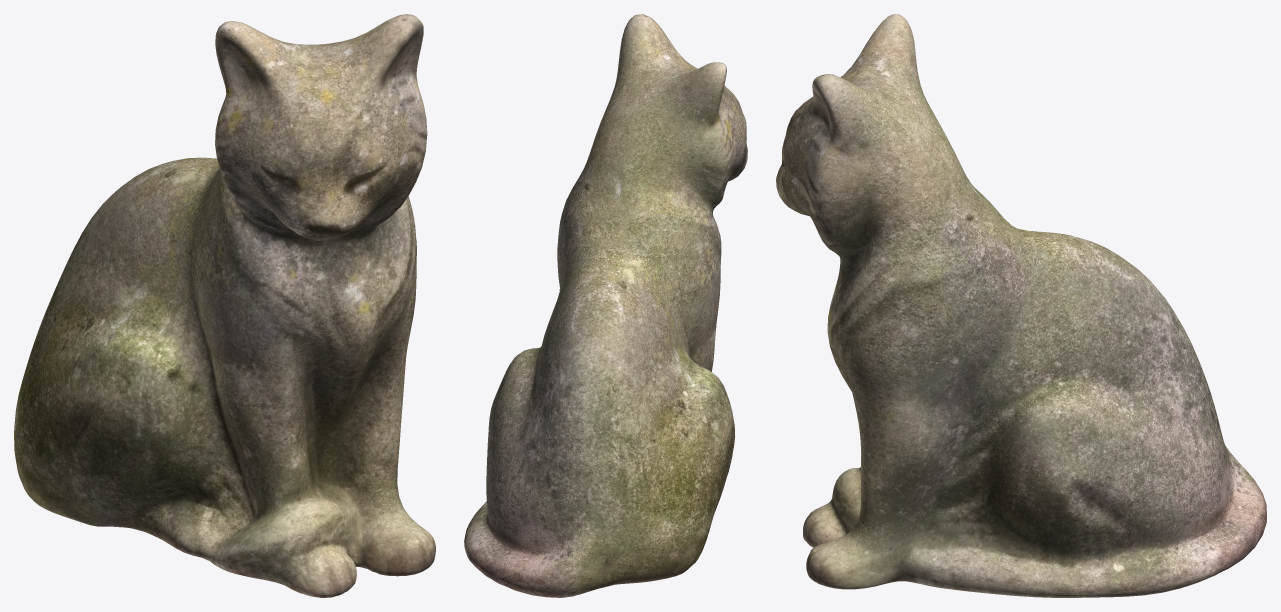
File: concrete_cat_statue.glb
The picture shows the model from 3 angles, left to right: view 1: azimuth 30°, elevation 25°; view 2: azimuth 150°, elevation 25°; view 3: azimuth 270°, elevation 25°; orthographic projection. The views are drawn at different scales.
Parts seen in each view (by area): view 1: concrete_cat_statue; view 2: concrete_cat_statue; view 3: concrete_cat_statue.
Boxes of the visible parts, left/top/right/bottom form: concrete_cat_statue: left=14, top=14, right=435, bottom=597; concrete_cat_statue: left=464, top=14, right=747, bottom=597; concrete_cat_statue: left=776, top=14, right=1266, bottom=597.
Bounding box in the file's own units: 0.153 × 0.283 × 0.25.
Materials: 1 (1 with a texture image).
